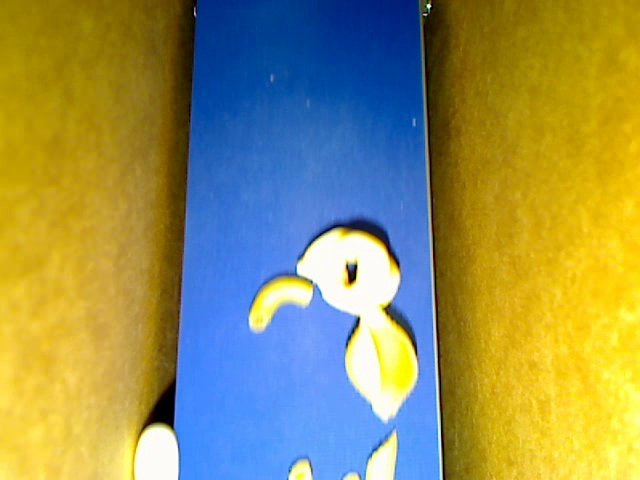elbow: (248, 275, 313, 332), (286, 458, 361, 479)
penne: (365, 429, 398, 479)
shell: (345, 304, 418, 421)
tortellini: (294, 225, 400, 316)
